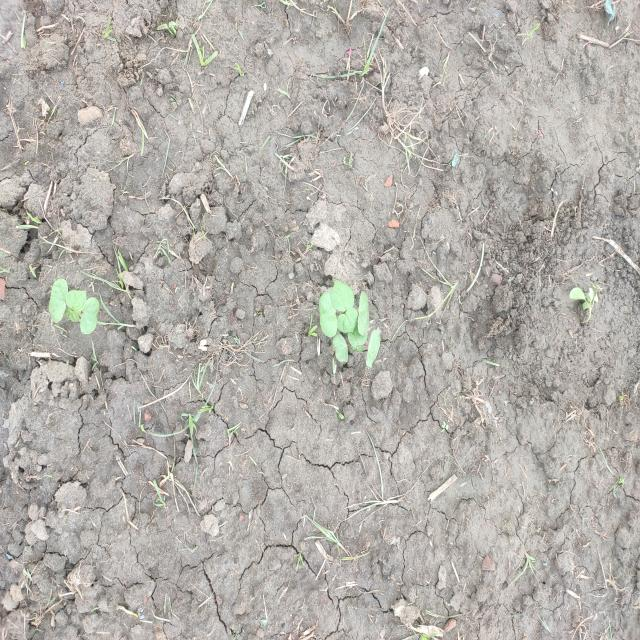seedling_s4: (49, 278, 68, 323), (319, 292, 337, 338), (330, 279, 354, 312), (80, 297, 99, 334), (366, 330, 381, 368), (337, 307, 358, 333), (358, 291, 369, 335), (66, 290, 87, 313), (348, 323, 367, 347), (333, 334, 348, 362), (65, 309, 80, 323), (569, 287, 585, 300), (585, 287, 594, 302)
